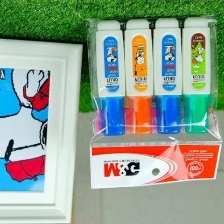correction_fluid: (93, 19, 127, 137), (179, 14, 212, 135), (121, 16, 154, 137), (150, 16, 183, 136)
